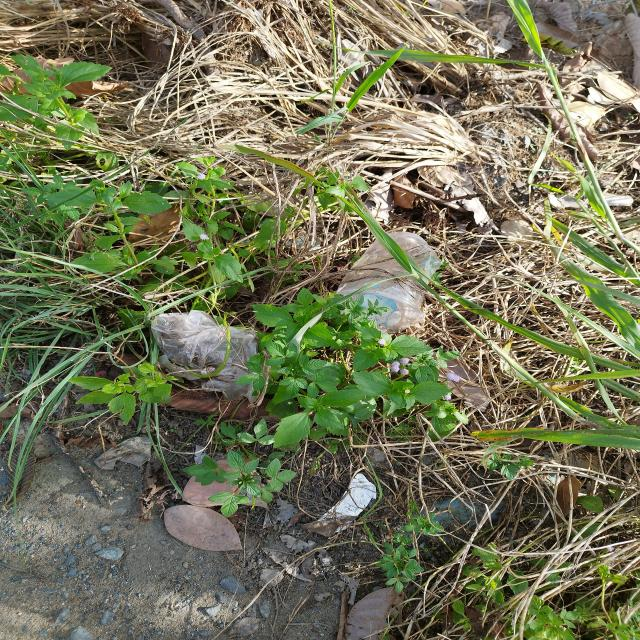bag: (150, 310, 258, 392)
plastic glass: (334, 231, 432, 331)
